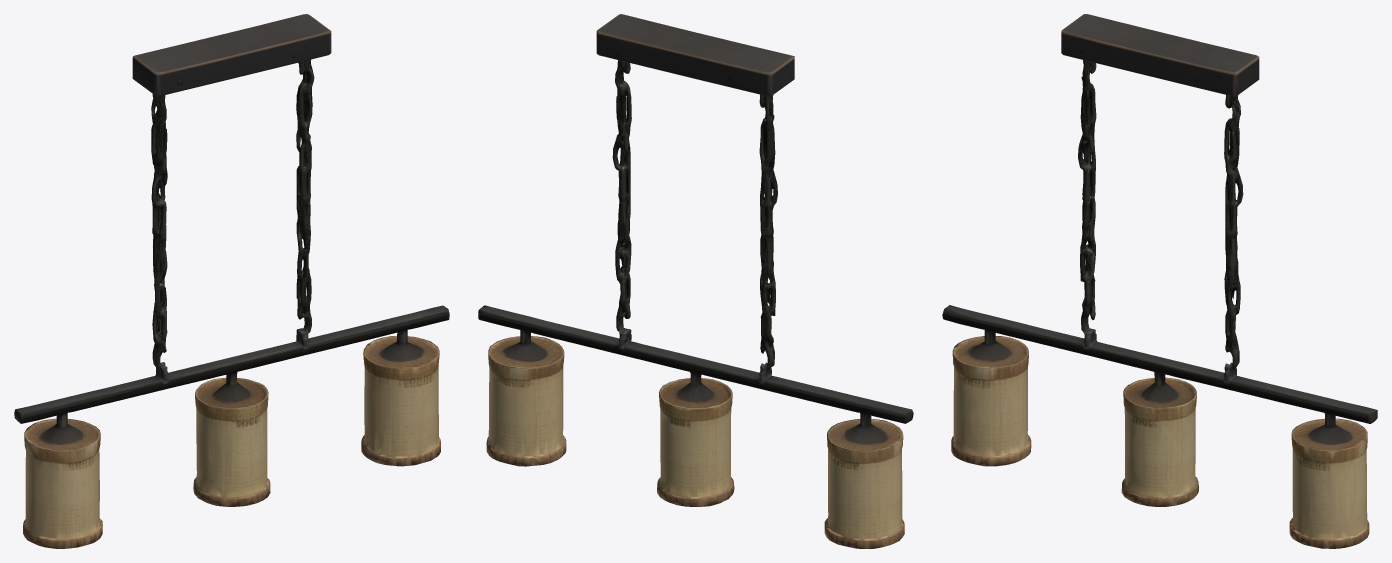
3 views of the same model, side by side, from view 1: azimuth 30°, elevation 25°; view 2: azimuth 150°, elevation 25°; view 3: azimuth 330°, elevation 25° (orthographic).
Visible parts, largest first — view 1: geometry_0; view 2: geometry_0; view 3: geometry_0.
Part boxes in pixels (<box>): geometry_0: <box>14,14,449,548</box>; geometry_0: <box>478,14,913,548</box>; geometry_0: <box>942,14,1377,548</box>.
Bounding box in the file's own units: 0.9999 × 1 × 0.1599.
1 material, 1 textured.
